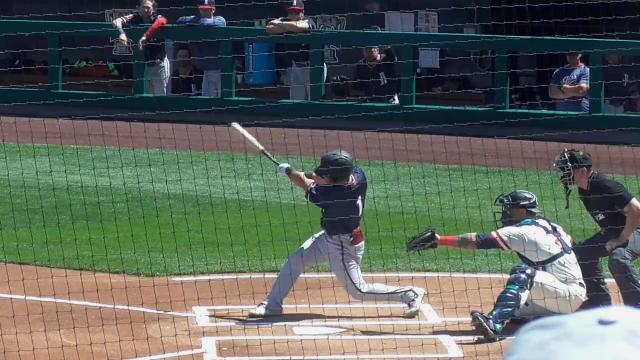bat: (230, 122, 282, 168)
